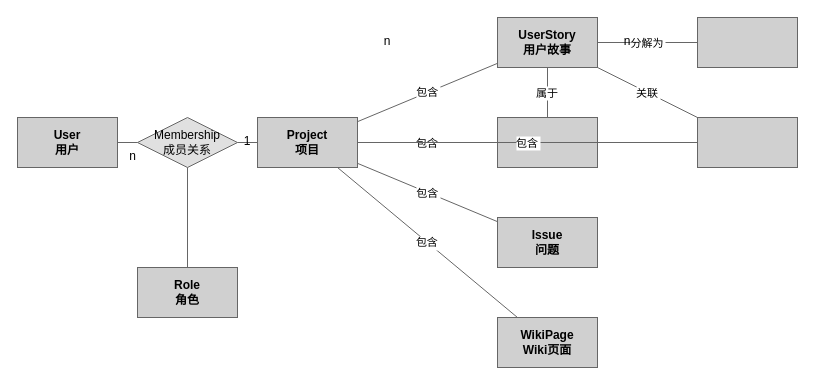
Some shapes in this 815 by 385 pixel diagram are drawn without their labels. The box of each missing label's shape, as (x1, y1, x2, y2) in pixels:
Epic 史诗: (696, 116, 798, 168)
Milestone 冲刺: (496, 116, 598, 168)
Task 任务: (696, 16, 798, 68)
